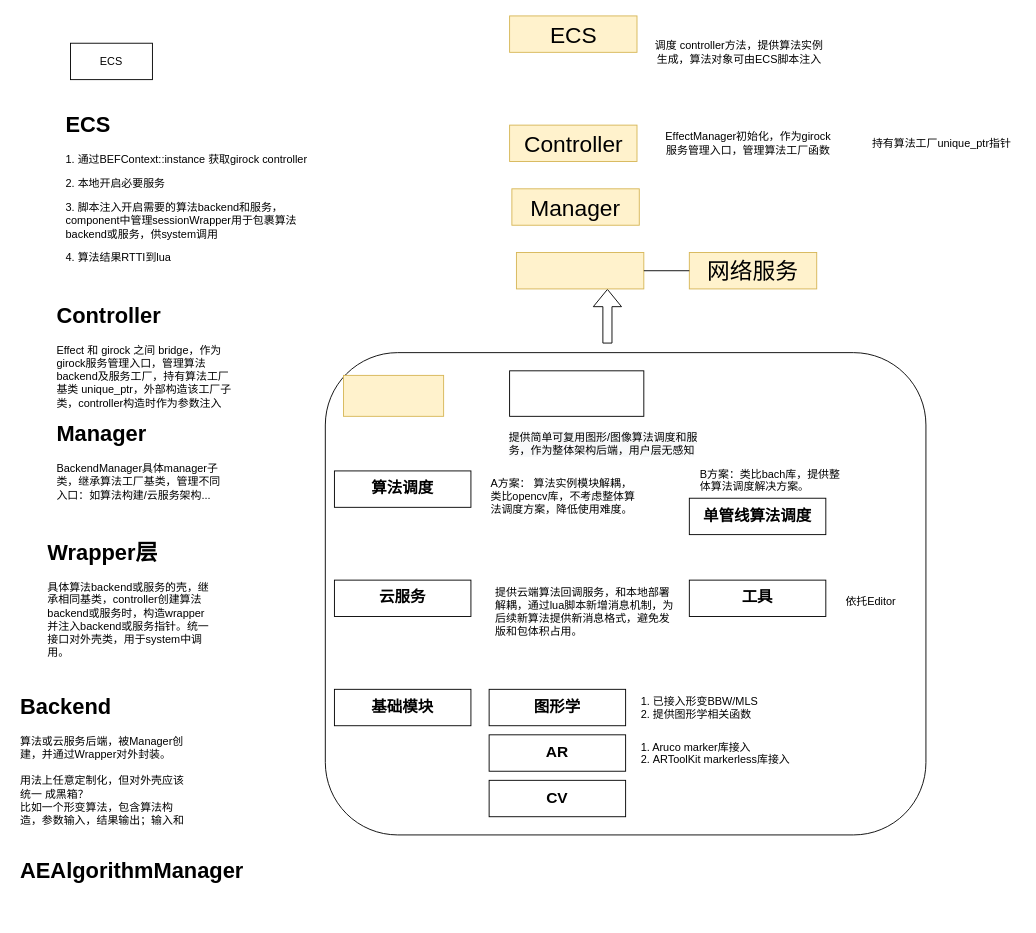
This 1036x933 diagram has some shape labels left out. Here are the shapes that lost their labels. From the top down, the box of each, then its label:
(516, 252, 644, 289): Wrapper层
(343, 374, 444, 416): 后端
(509, 370, 644, 416): girock sdk
